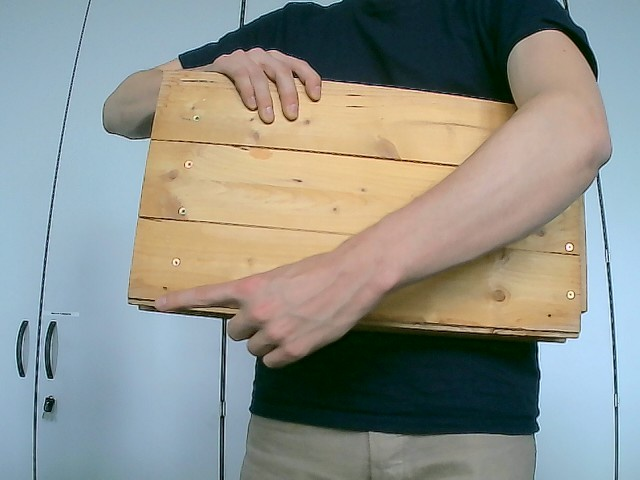no_gesture: (194, 45, 323, 125)
right: (152, 250, 376, 370)
